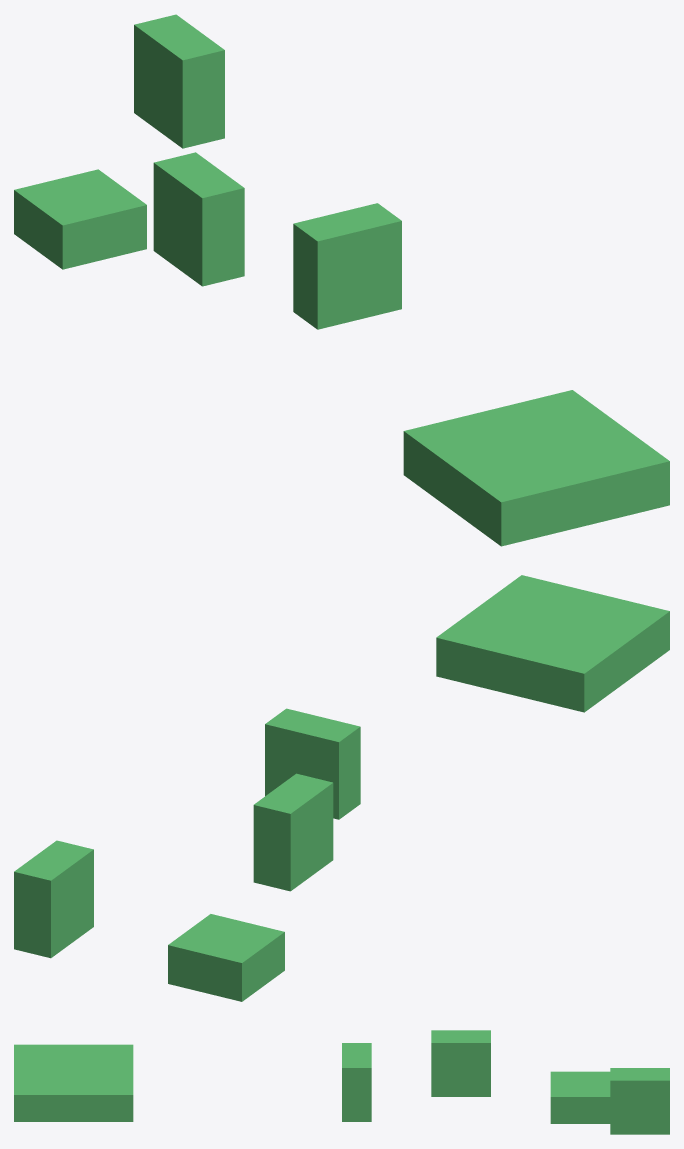
File: rotations_Y.dae
3 views of the same model, one above another, from view 1: azimuth 30°, elevation 25°; view 2: azimuth 150°, elevation 25°; view 3: azimuth 270°, elevation 25° (orthographic). The views are drawn at different scales.
Visible parts, largest first — view 1: Y (×8); view 2: Y (×8); view 3: Y (×8).
Boxes of the visible parts, <box> form: Y (×8): <box>14,14,669,546</box>; Y (×8): <box>14,575,669,1001</box>; Y (×8): <box>14,1030,669,1134</box>.
Bounding box in the file's own units: 2.5 × 11 × 1.5.
